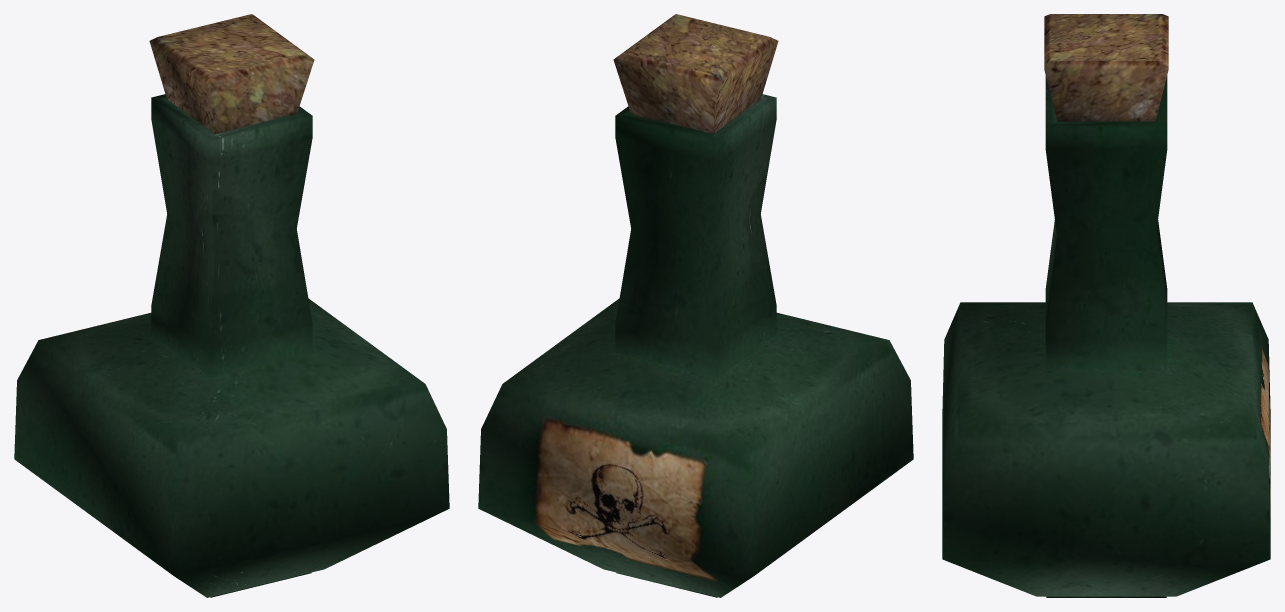
The model's file is bottle.fbx.
3 renders of one model, left to right at view 1: azimuth 30°, elevation 25°; view 2: azimuth 150°, elevation 25°; view 3: azimuth 270°, elevation 25°, orthographic. The views are drawn at different scales.
Visible parts, largest first — view 1: Plane; view 2: Plane; view 3: Plane.
Boxes of the visible parts, x1,y1,x2,y2 form: Plane: (14, 14, 449, 597); Plane: (478, 14, 913, 597); Plane: (942, 14, 1270, 597).
Size of the model in its own units: 0.2548 by 0.4576 by 0.2548.
Materials: 1 (1 with a texture image).
